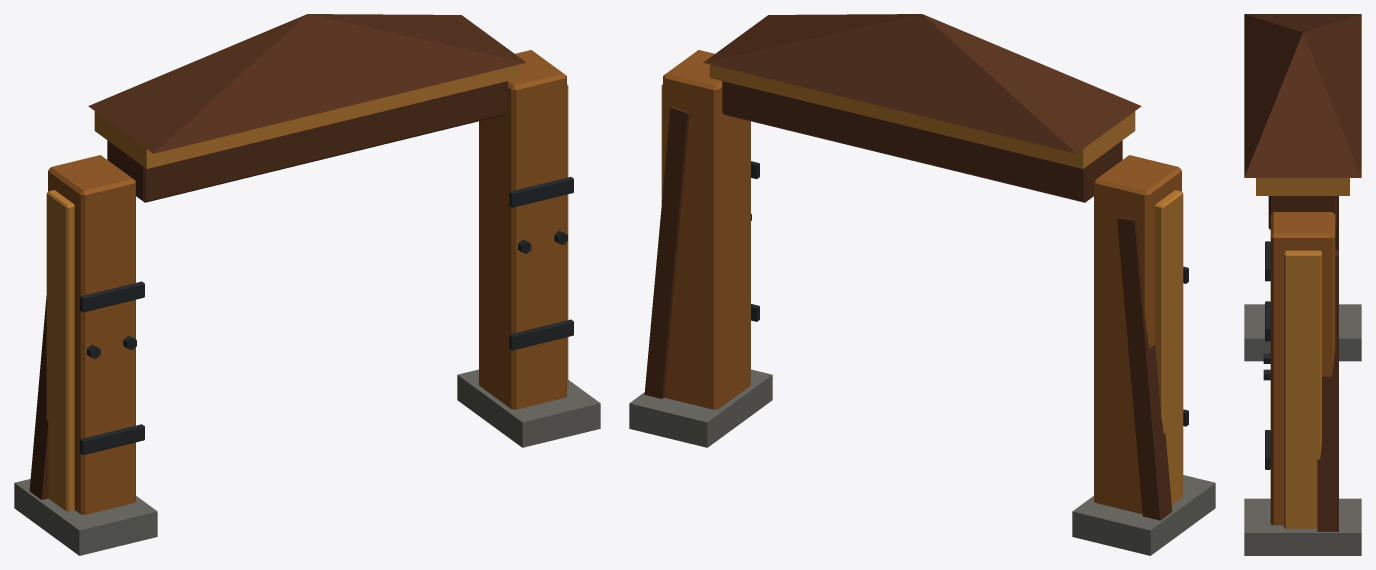
The picture shows the model from 3 angles, left to right: view 1: azimuth 30°, elevation 25°; view 2: azimuth 150°, elevation 25°; view 3: azimuth 270°, elevation 25°; orthographic projection. The views are drawn at different scales.
Parts seen in each view (by area): view 1: WK_WoodPalisade_W15_LOD0; view 2: WK_WoodPalisade_W15_LOD0; view 3: WK_WoodPalisade_W15_LOD0.
Part boxes in pixels (x1,y1,x2,y2): WK_WoodPalisade_W15_LOD0: (14,14,600,555); WK_WoodPalisade_W15_LOD0: (629,14,1215,555); WK_WoodPalisade_W15_LOD0: (1244,14,1361,555).
Size of the model in its own units: 6 by 5 by 1.3.
